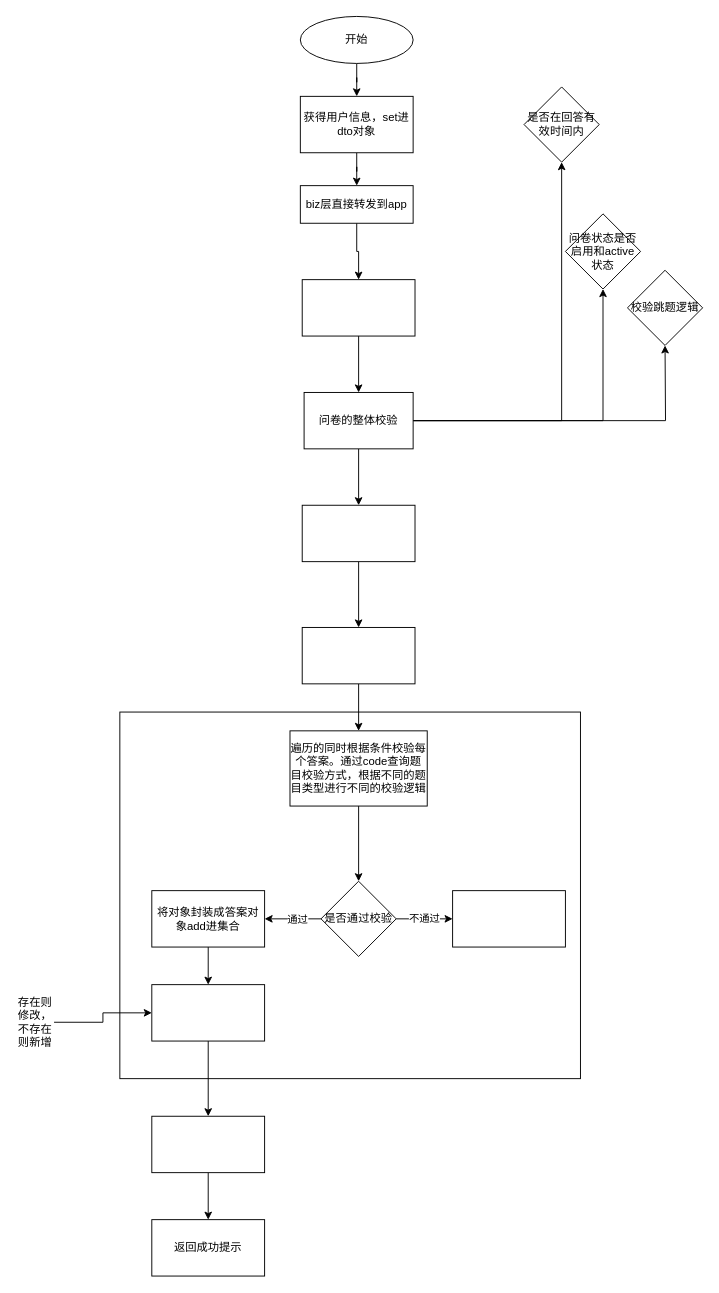
Some shapes in this 719 by 1293 pixel diagram are drawn without their labels. Here are the shapes that lost their labels. From the top down, the centre of each, then its label:
At pixel 358 307: "调用app层".
At pixel 358 533: "new一个答案对象的list集合".
At pixel 358 655: "遍历pages数组下的questions数组获得答案列表".
At pixel 508 918: "直接break,return，失败提示".
At pixel 208 1012: "答案对象的集合入库".
At pixel 208 1144: "更新用户调查记录表状态".
